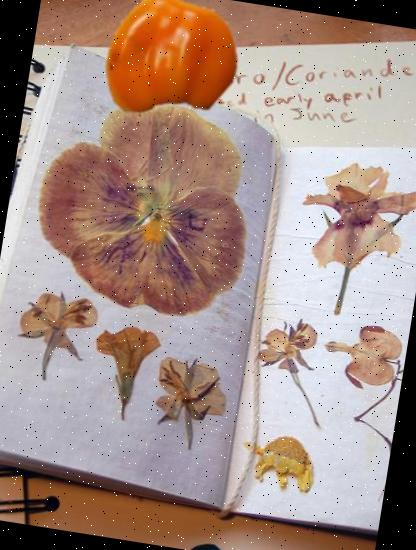Pepper: (90, 0, 249, 141)
